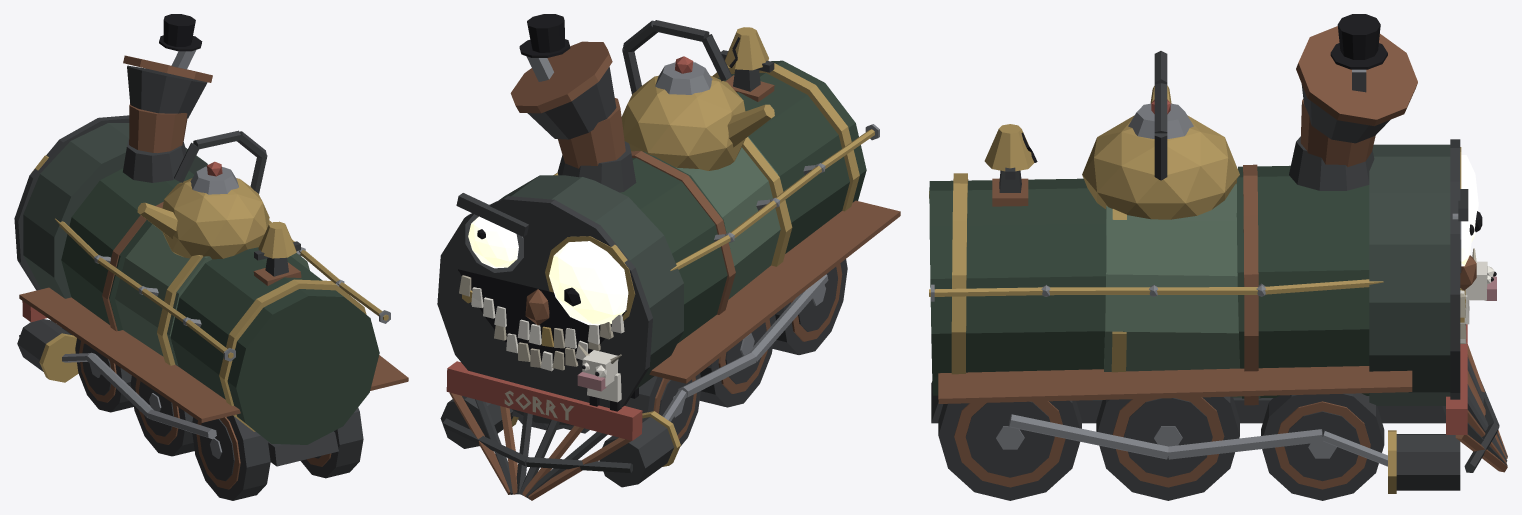
The model's file is nose.glb.
3 views of the same model, side by side, from view 1: azimuth 30°, elevation 25°; view 2: azimuth 150°, elevation 25°; view 3: azimuth 270°, elevation 25° (orthographic). The views are drawn at different scales.
Parts seen in each view (by area): view 1: Nose; view 2: Nose; view 3: Nose.
Part boxes in pixels (x1,y1,x2,y2): Nose: (14,14,408,500); Nose: (437,14,900,500); Nose: (929,14,1507,500).
Bounding box in the file's own units: 4.32 × 7.15 × 8.06.
